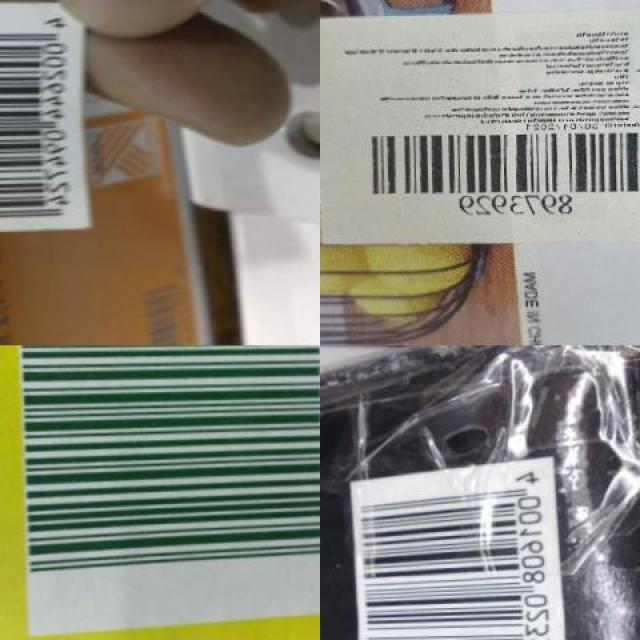Barcode: (11, 346, 320, 634), (347, 453, 565, 640), (349, 126, 640, 218), (0, 0, 85, 233)
